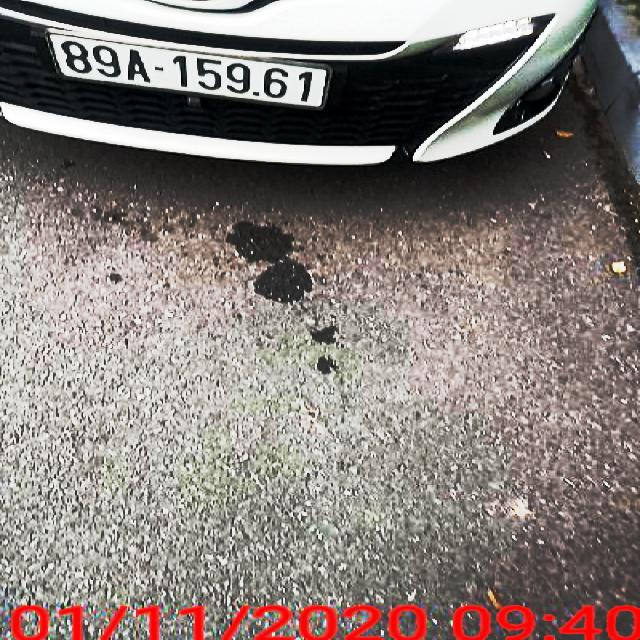license_plate: (45, 31, 331, 108)
